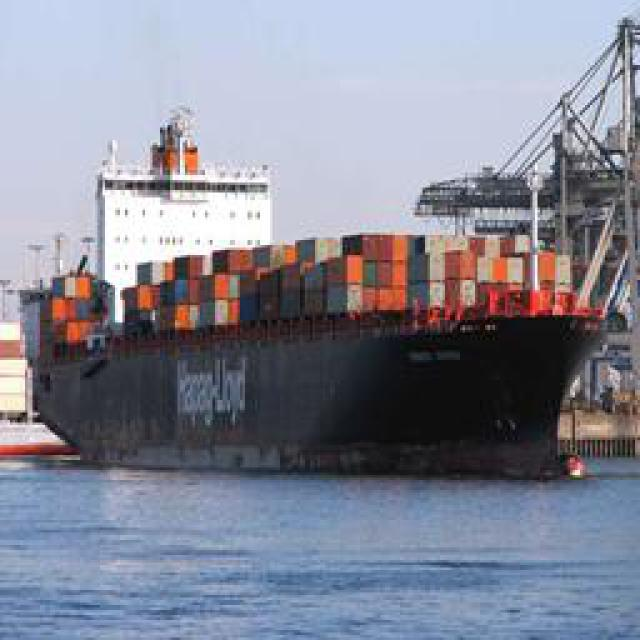Ship: (18, 41, 633, 471)
